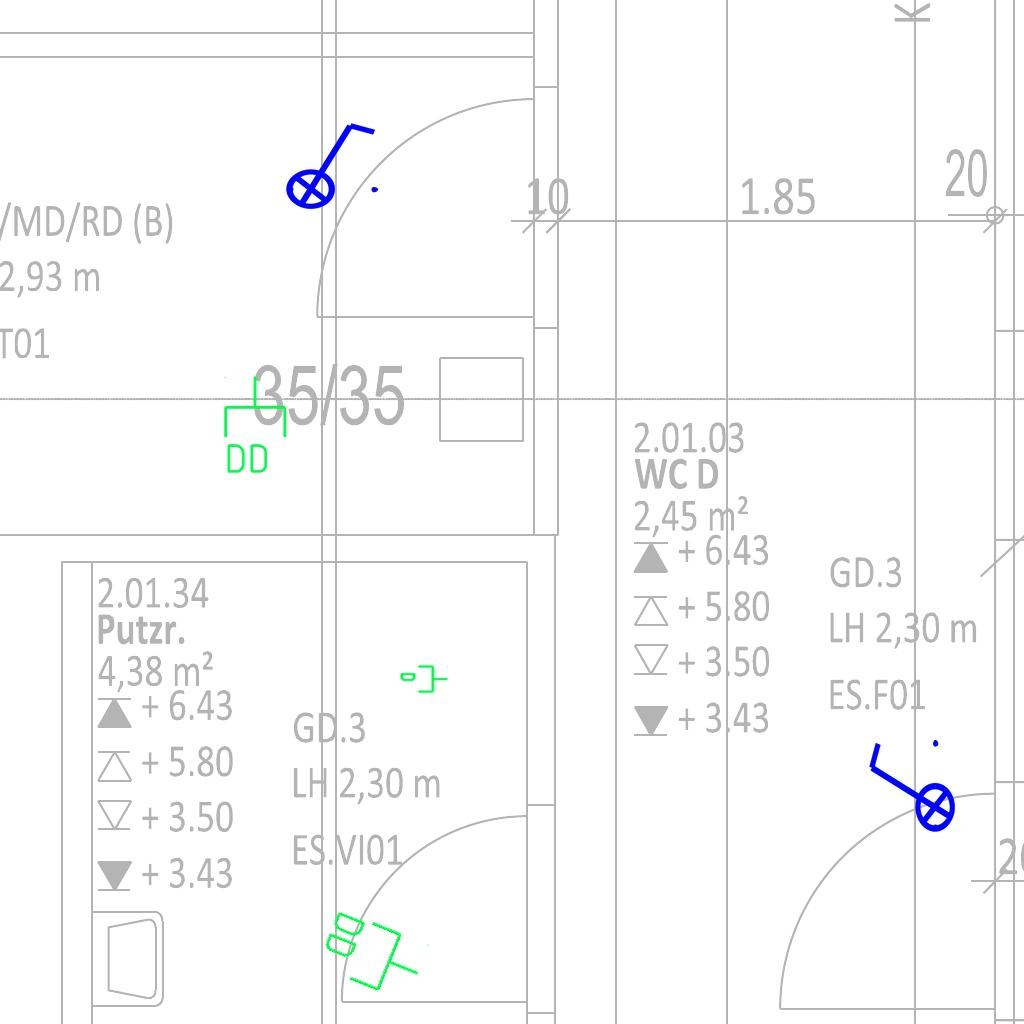Ausschalter_beleuchtet: (861, 734, 957, 846), (272, 115, 384, 211)
Datenanschluss_einfach: (399, 663, 449, 697)
Datenanschluss_zweifach: (311, 903, 434, 1006), (220, 374, 289, 477)
